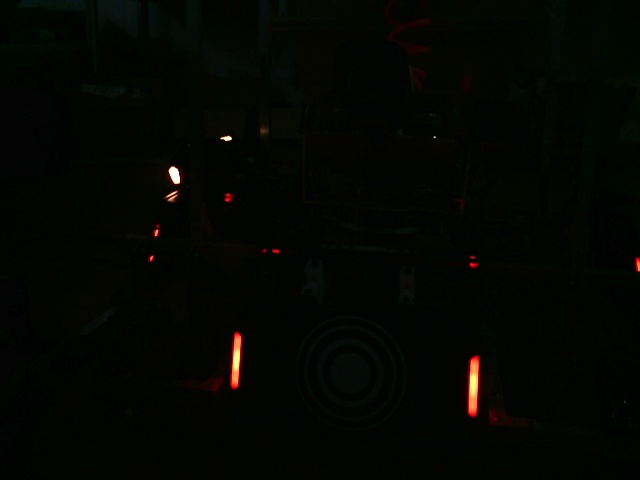lamp: (467, 353, 479, 417), (230, 330, 241, 389)
